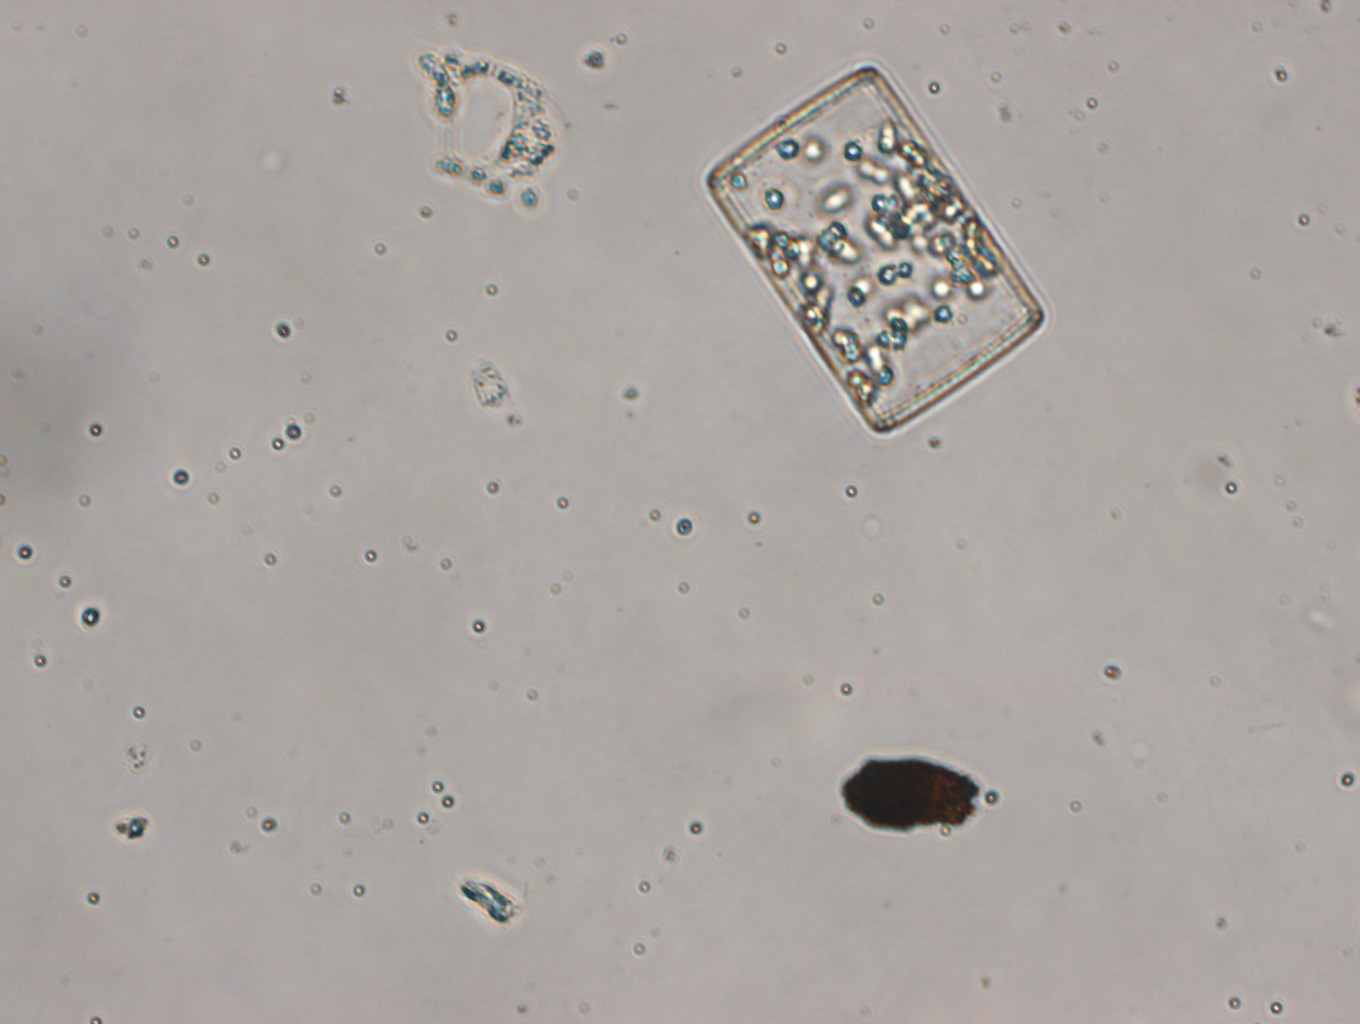guinardia flaccida: (703, 61, 1045, 439)
